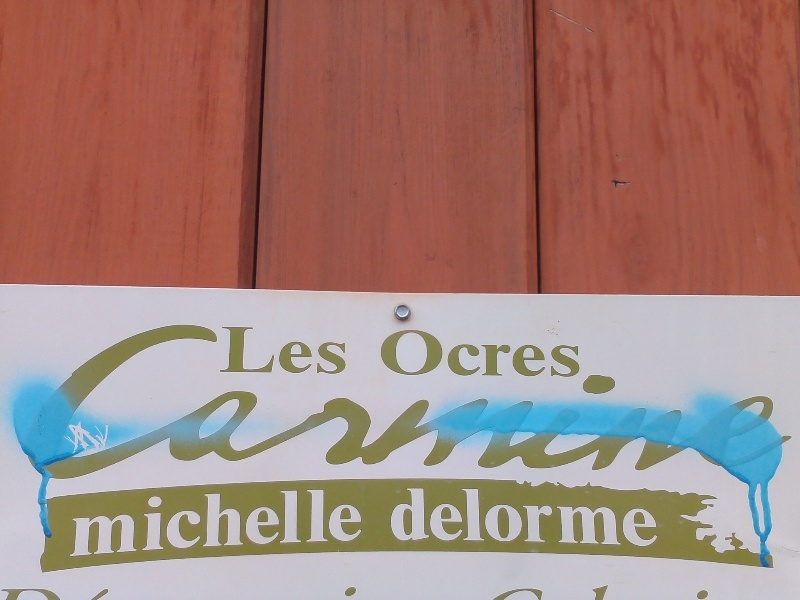text: (65, 323, 80, 483), (81, 323, 96, 483), (97, 323, 112, 483), (113, 323, 128, 483), (129, 323, 144, 483), (145, 323, 160, 483), (161, 323, 176, 483), (177, 323, 192, 483), (193, 323, 208, 483), (209, 323, 224, 483), (225, 323, 240, 483), (241, 323, 256, 483), (257, 323, 272, 483), (273, 323, 288, 483), (289, 323, 304, 483), (305, 323, 320, 483), (321, 323, 336, 483), (337, 323, 352, 483), (353, 323, 368, 483), (369, 323, 384, 483), (385, 323, 400, 483), (401, 323, 416, 483), (417, 323, 432, 483), (433, 323, 448, 483), (449, 323, 464, 483), (465, 323, 480, 483), (481, 323, 496, 483), (497, 323, 512, 483), (513, 323, 528, 483), (529, 323, 544, 483), (545, 323, 560, 483), (561, 323, 576, 483), (577, 323, 592, 483), (593, 323, 608, 483), (609, 323, 624, 483), (625, 323, 640, 483), (641, 323, 656, 483), (657, 323, 672, 483), (673, 323, 688, 483), (689, 323, 704, 483), (705, 323, 720, 483), (721, 323, 736, 483), (737, 323, 752, 483), (753, 323, 768, 483), (769, 323, 784, 483), (785, 323, 793, 483), (81, 483, 96, 559), (97, 483, 112, 559), (113, 483, 128, 559), (129, 483, 144, 559), (145, 483, 160, 559), (161, 483, 176, 559), (177, 483, 192, 559), (193, 483, 208, 559), (209, 483, 224, 559), (225, 483, 240, 559), (241, 483, 256, 559), (257, 483, 272, 559), (273, 483, 288, 559), (289, 483, 304, 559), (305, 483, 320, 559), (321, 483, 336, 559), (337, 483, 352, 559), (401, 482, 416, 551), (417, 482, 432, 551), (433, 482, 448, 551), (449, 482, 464, 551), (465, 482, 480, 551), (481, 482, 496, 551), (497, 482, 512, 551), (513, 482, 528, 551), (529, 482, 544, 551), (545, 482, 560, 551), (561, 482, 576, 551), (577, 482, 592, 551), (593, 482, 608, 551), (609, 482, 624, 551), (625, 482, 640, 551), (641, 482, 656, 551), (225, 324, 240, 377), (241, 324, 256, 377), (257, 324, 272, 377), (273, 324, 288, 377), (289, 324, 304, 377), (305, 324, 320, 377), (321, 324, 336, 377), (353, 483, 363, 559), (385, 330, 400, 379), (401, 330, 416, 379), (417, 330, 432, 379), (433, 330, 448, 379), (449, 330, 464, 379), (465, 330, 480, 379), (481, 330, 496, 379), (497, 330, 512, 379), (513, 330, 528, 379), (529, 330, 544, 379), (545, 330, 560, 379), (561, 330, 576, 379), (337, 324, 349, 377), (395, 482, 400, 551), (76, 483, 80, 559), (657, 482, 661, 551), (379, 330, 384, 379), (577, 330, 582, 379), (63, 323, 64, 483), (221, 324, 224, 377)
